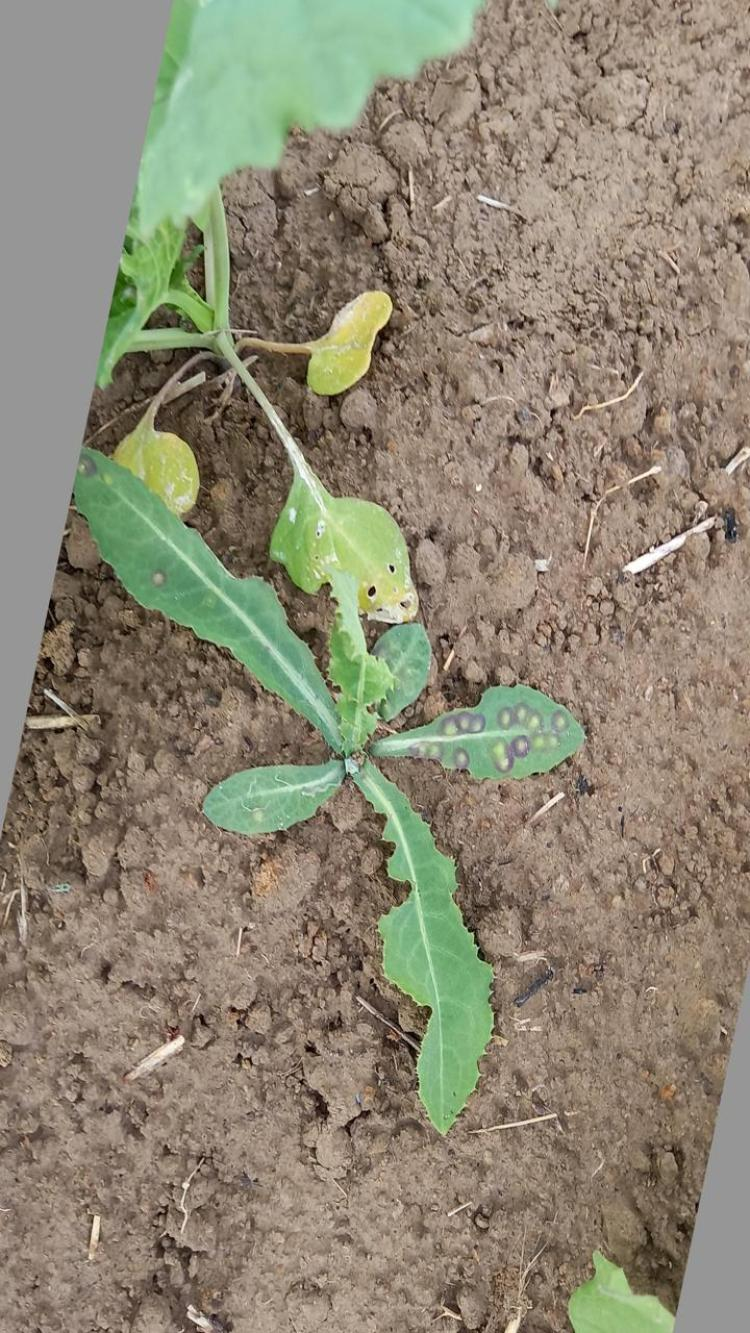bodyak: (66, 450, 588, 1137)
